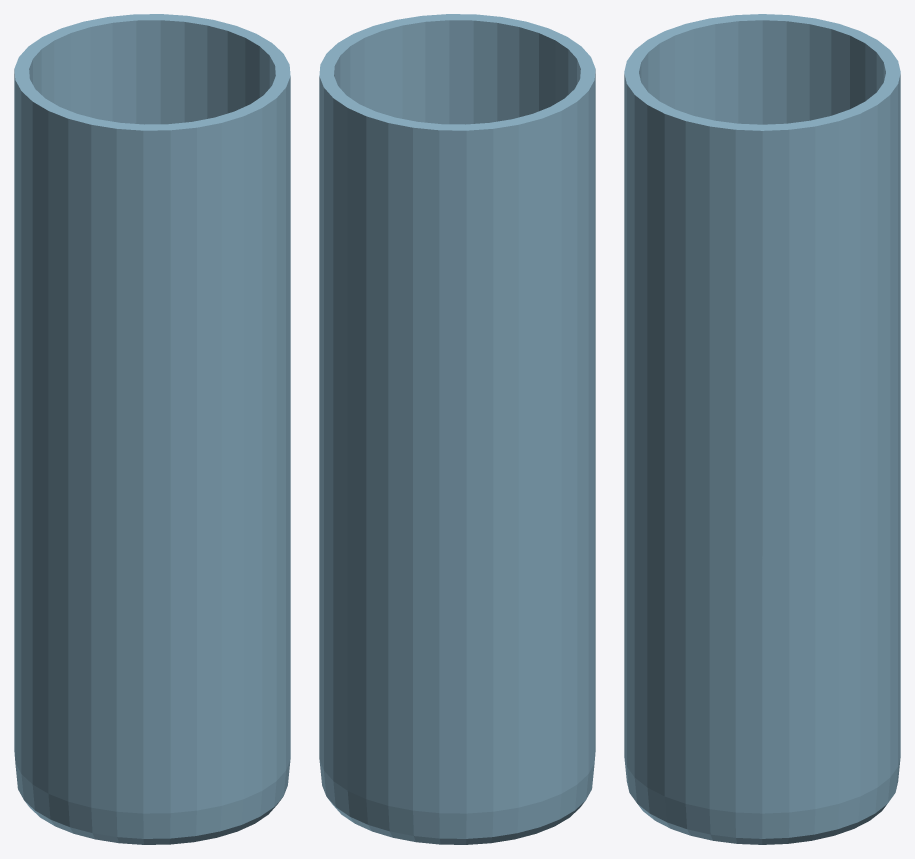
Rendered from largeCup.fbx.
3 views of the same model, side by side, from view 1: azimuth 30°, elevation 25°; view 2: azimuth 150°, elevation 25°; view 3: azimuth 270°, elevation 25° (orthographic).
Parts seen in each view (by area): view 1: Large Cup; view 2: Large Cup; view 3: Large Cup.
Boxes of the visible parts, x1,y1,x2,y2 form: Large Cup: [14, 14, 290, 844]; Large Cup: [319, 14, 595, 844]; Large Cup: [624, 14, 900, 844].
Size of the model in its own units: 1.03 by 2.94 by 1.03.
